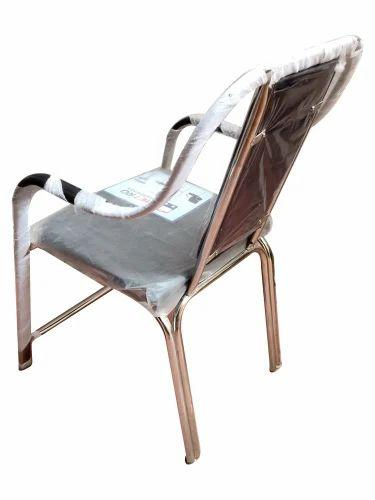chair: (2, 17, 361, 474)
